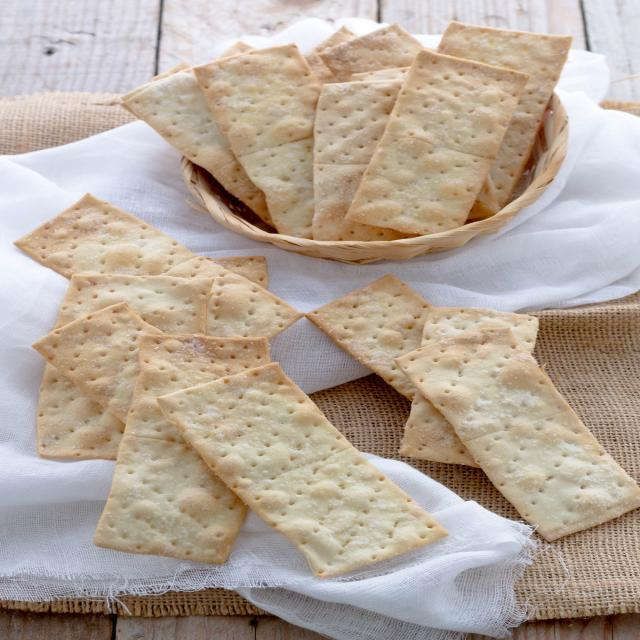Cracker: (158, 361, 442, 569), (398, 326, 640, 556), (16, 200, 309, 350), (101, 336, 274, 568), (192, 41, 344, 253), (356, 55, 503, 231)
